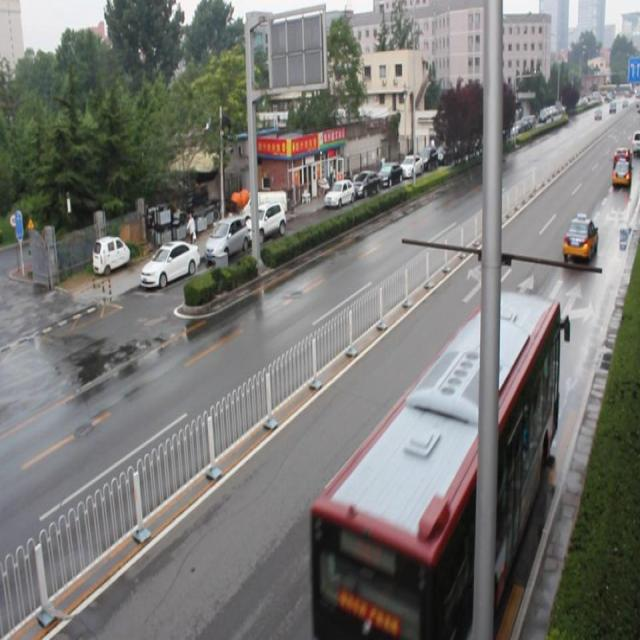car: (561, 210, 596, 260)
van: (307, 286, 568, 630)
